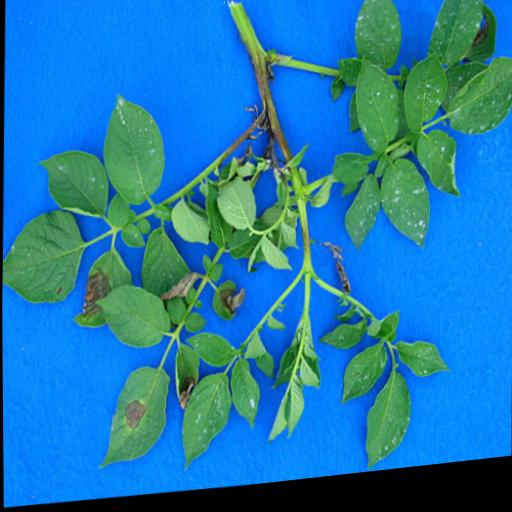Late Blight: (93, 364, 172, 476), (69, 243, 135, 334)
